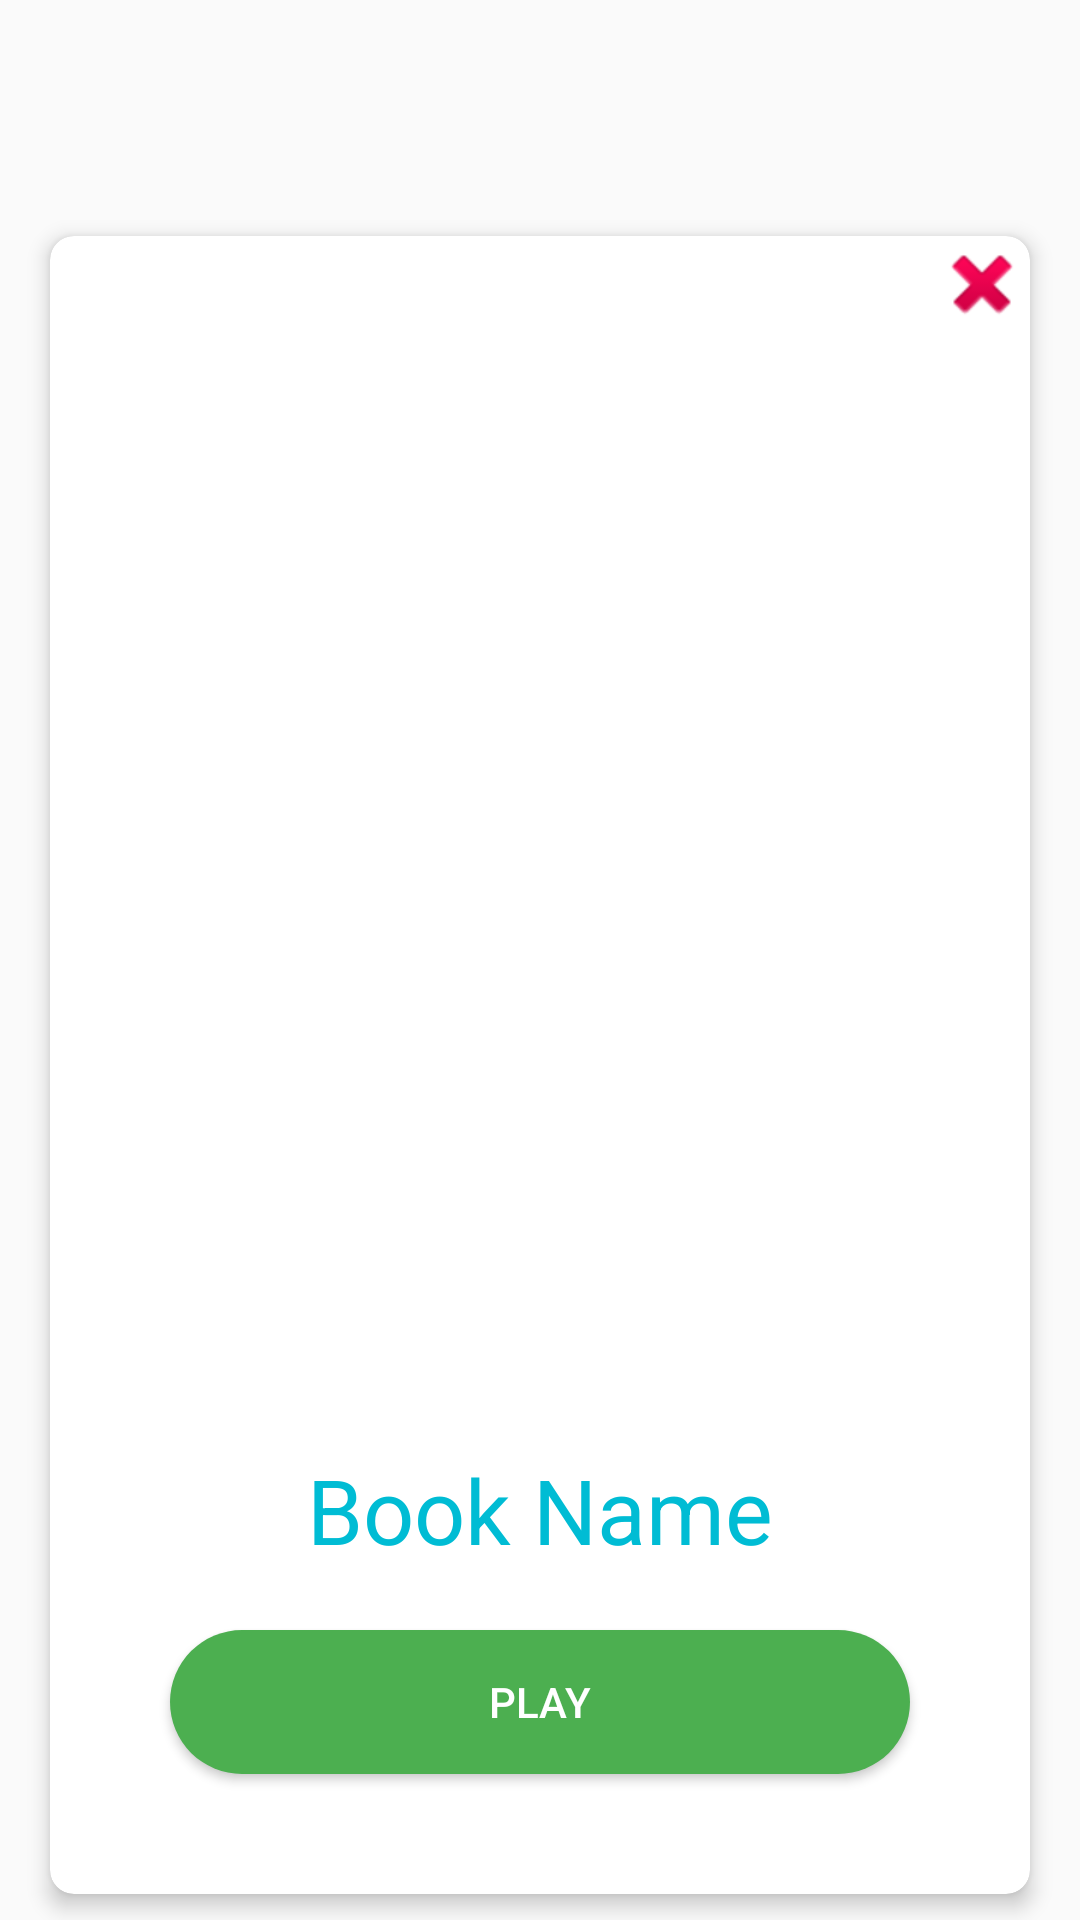

Where to tap for icons on this 1080x1920 app screen, as (x=x, y=y):
delete: (x=982, y=284)
